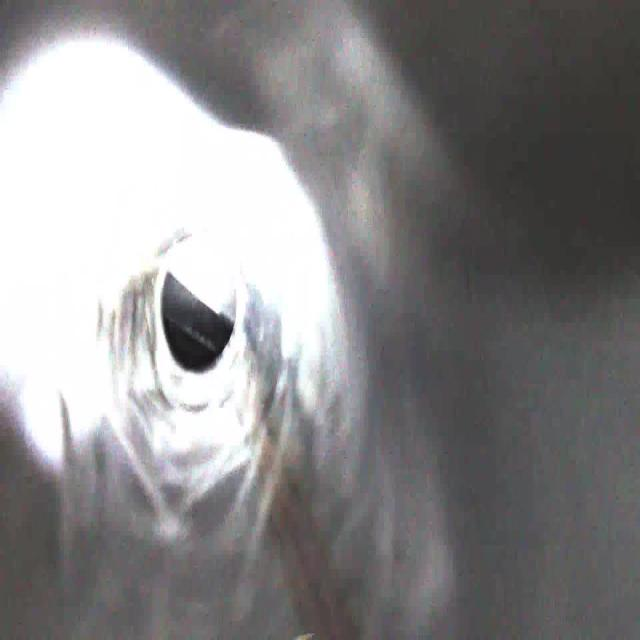crack: (124, 379, 192, 446), (99, 282, 153, 354)
